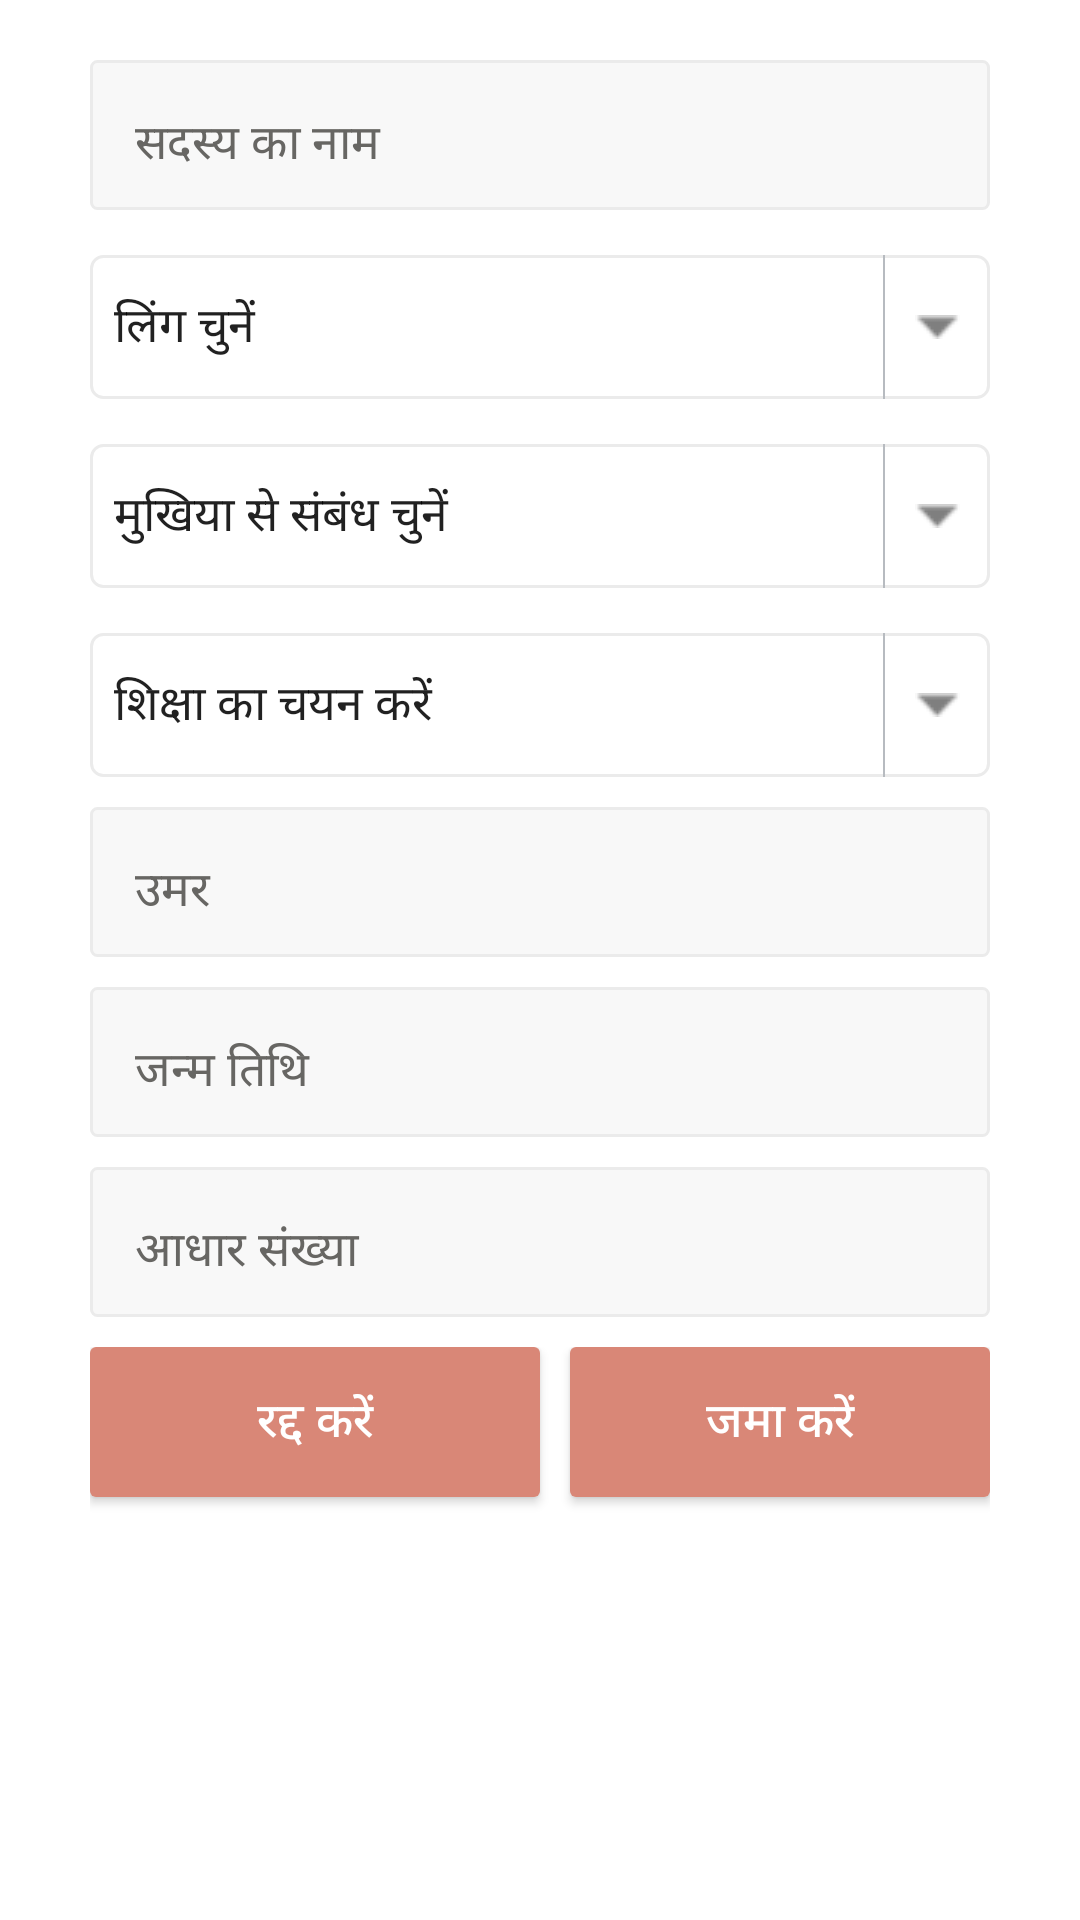

Icon bounding boxes for this 1080 × 1920 phone screenshot, format (x1=x1, y1=y1, x2=x2, y2=y2):
down arrow: (x1=918, y1=315, x2=957, y2=339), (x1=918, y1=504, x2=957, y2=528), (x1=918, y1=693, x2=957, y2=717)
